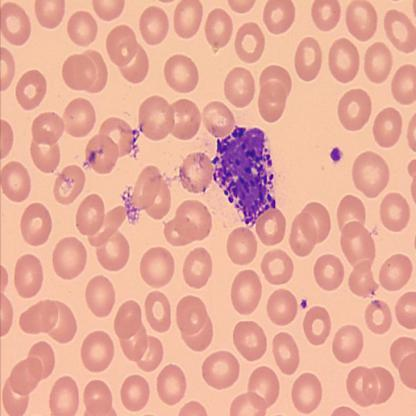Basophil: (210, 124, 278, 230)
